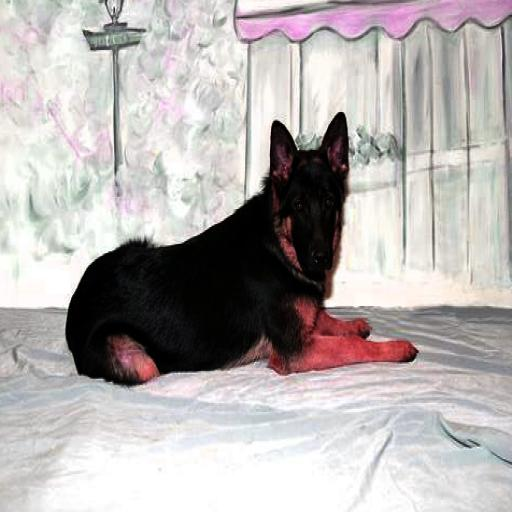dog_face: (261, 107, 356, 270)
